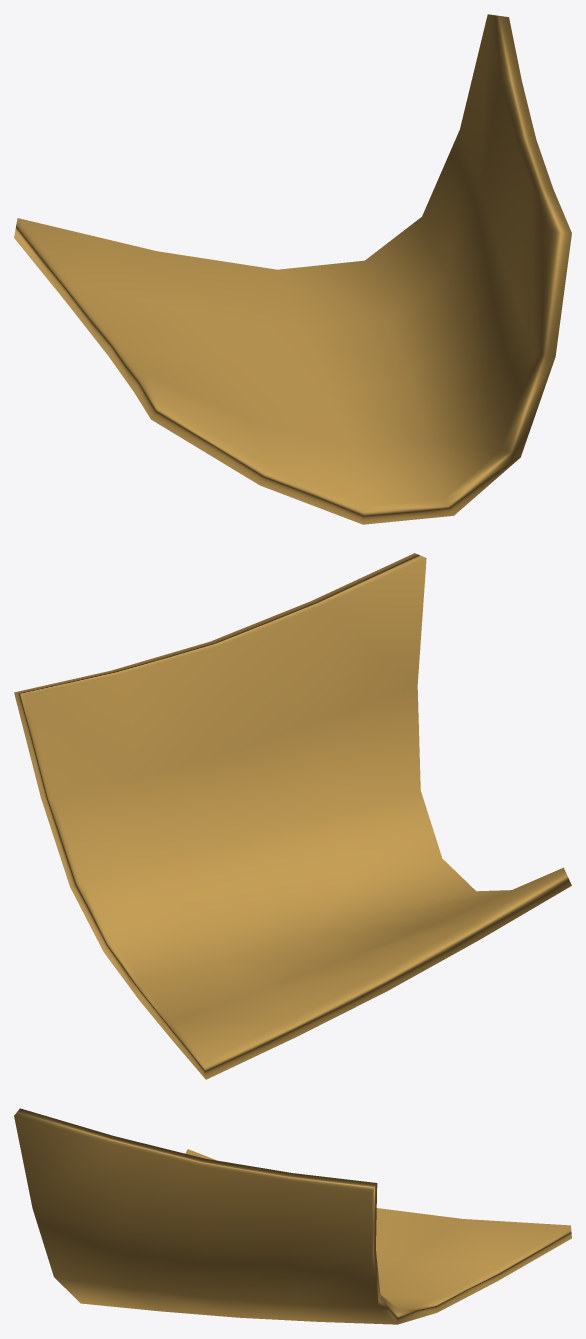
3 renders of one model, top to bottom at view 1: azimuth 30°, elevation 25°; view 2: azimuth 150°, elevation 25°; view 3: azimuth 270°, elevation 25°, orthographic. The views are drawn at different scales.
Visible parts, largest first — view 1: 左侧肱骨横韧带; view 2: 左侧肱骨横韧带; view 3: 左侧肱骨横韧带.
Boxes of the visible parts, x1=… form: 左侧肱骨横韧带: x1=14, y1=14, x2=571, y2=524; 左侧肱骨横韧带: x1=14, y1=553, x2=571, y2=1079; 左侧肱骨横韧带: x1=14, y1=1108, x2=571, y2=1324.
Size of the model in its own units: 0.0188 by 0.0115 by 0.0263.
